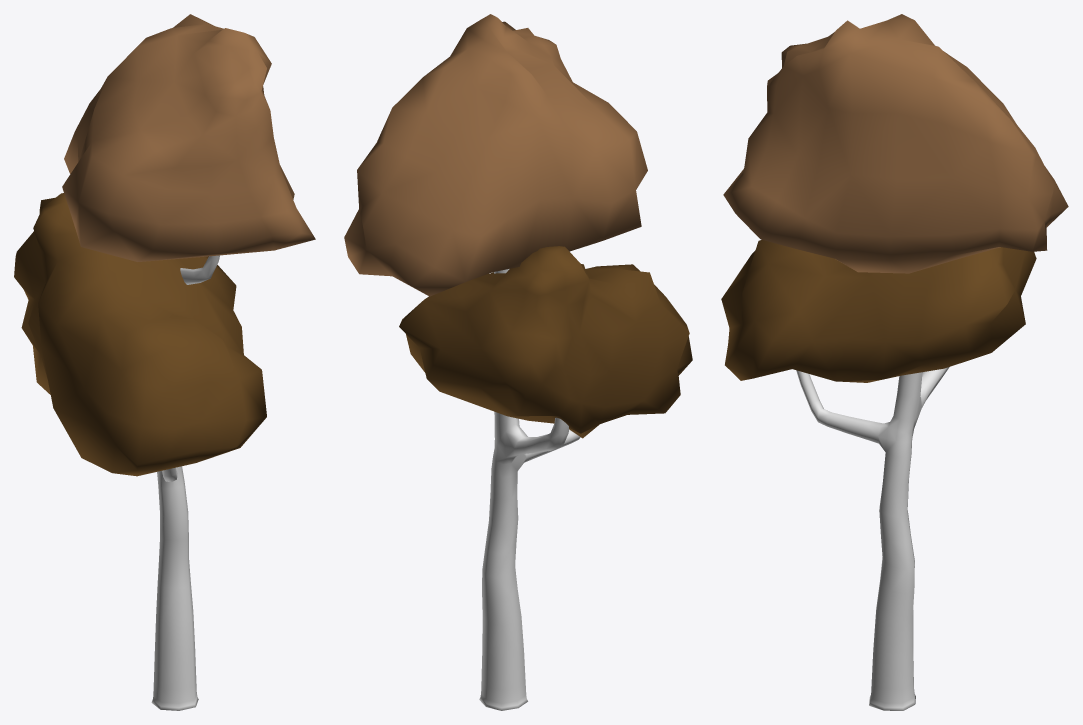
File: BroadLeafTree.fbx
The picture shows the model from 3 angles, left to right: view 1: azimuth 30°, elevation 25°; view 2: azimuth 150°, elevation 25°; view 3: azimuth 270°, elevation 25°; orthographic projection. The views are drawn at different scales.
Visible parts, largest first — view 1: CommonTree_3; view 2: CommonTree_3; view 3: CommonTree_3.
Boxes of the visible parts, left/top/right/bottom form: CommonTree_3: left=14, top=14, right=315, bottom=710; CommonTree_3: left=344, top=14, right=692, bottom=710; CommonTree_3: left=721, top=14, right=1068, bottom=710.
Size of the model in its own units: 64.77 by 176 by 79.33.
